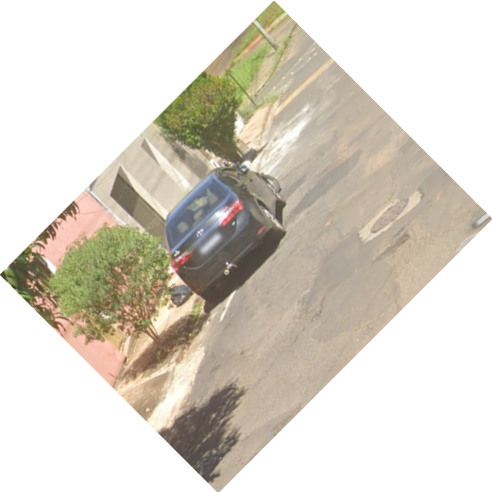car: (162, 159, 293, 306)
